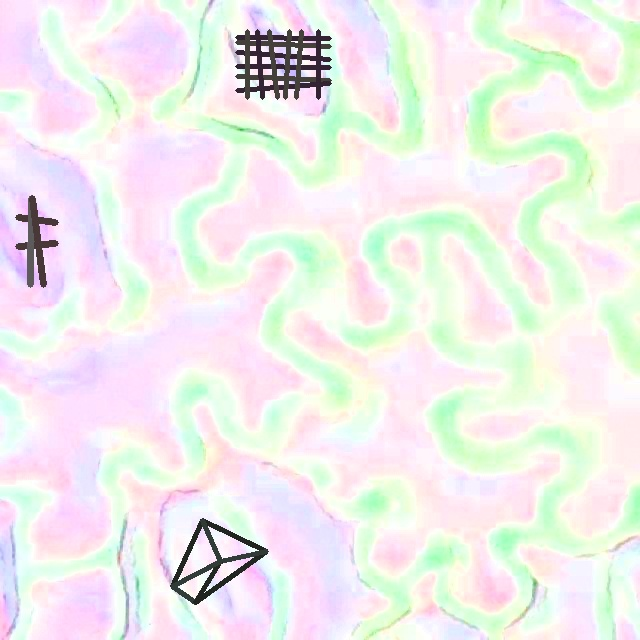close: (171, 518, 268, 604)
open: (235, 29, 331, 99), (15, 195, 58, 287)
